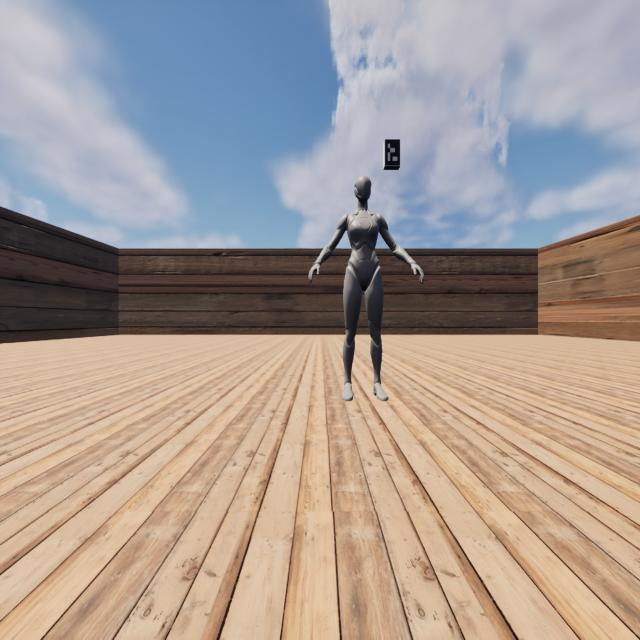aruco: (385, 140, 400, 167)
hip: (346, 266, 382, 276)
